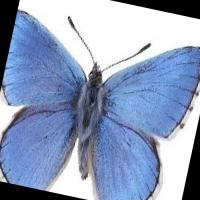butterfly: (0, 10, 200, 200)
